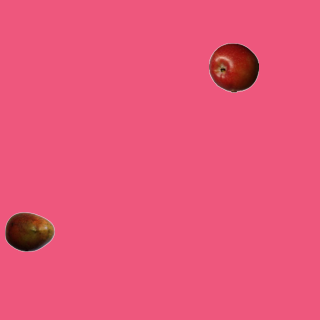Apple Braeburn: (208, 42, 258, 92)
Mango Red: (4, 206, 54, 256)
